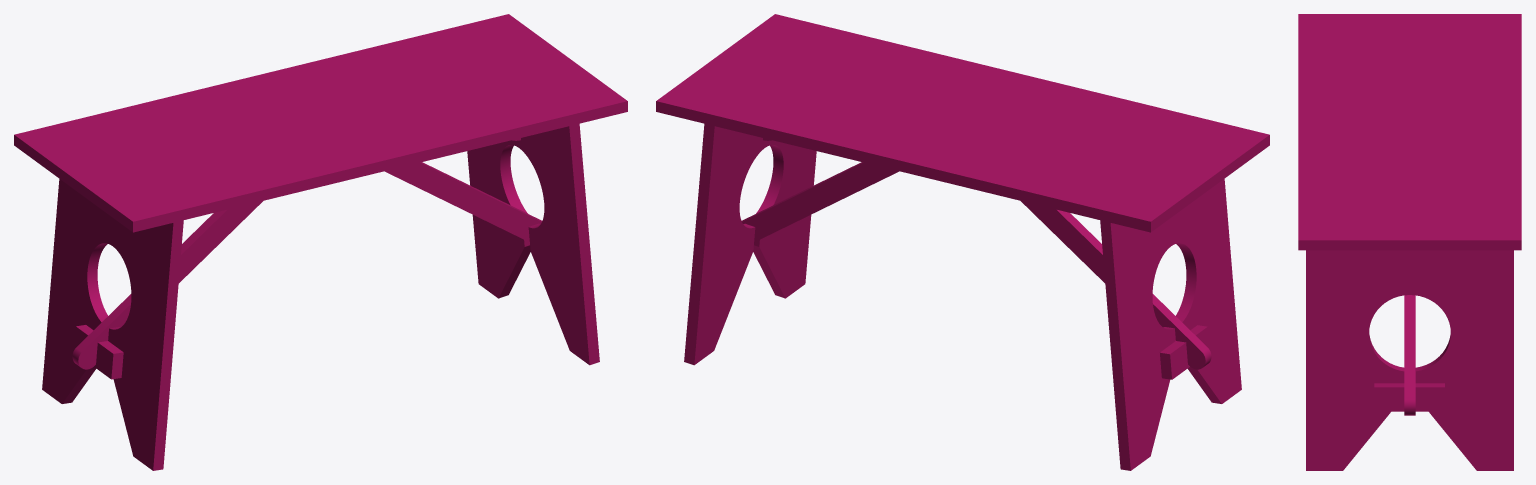
The picture shows the model from 3 angles, left to right: view 1: azimuth 30°, elevation 25°; view 2: azimuth 150°, elevation 25°; view 3: azimuth 270°, elevation 25°; orthographic projection. The views are drawn at different scales.
Visible parts, largest first — view 1: mesh1_mesh1-geometry; view 2: mesh1_mesh1-geometry; view 3: mesh1_mesh1-geometry.
Part boxes in pixels (x1,y1,x2,y2): mesh1_mesh1-geometry: [14, 14, 627, 470]; mesh1_mesh1-geometry: [656, 14, 1269, 470]; mesh1_mesh1-geometry: [1298, 14, 1521, 470].
Size of the model in its own units: 0.8381 by 0.4191 by 0.3492.
